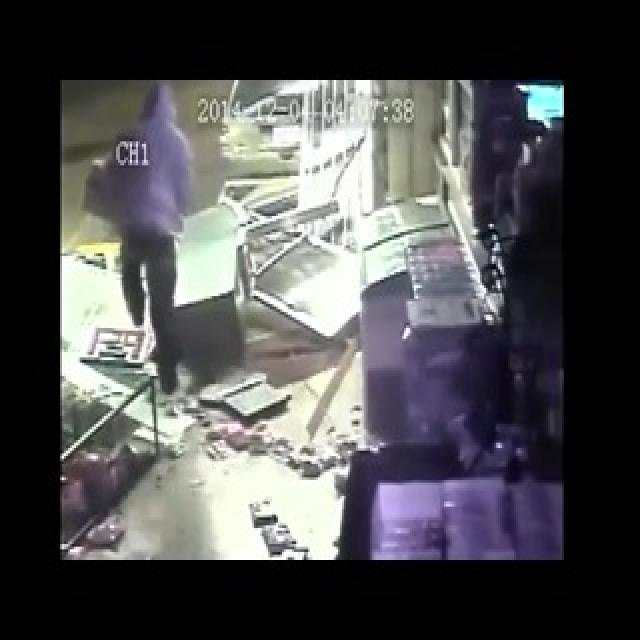thief: (132, 81, 186, 190)
